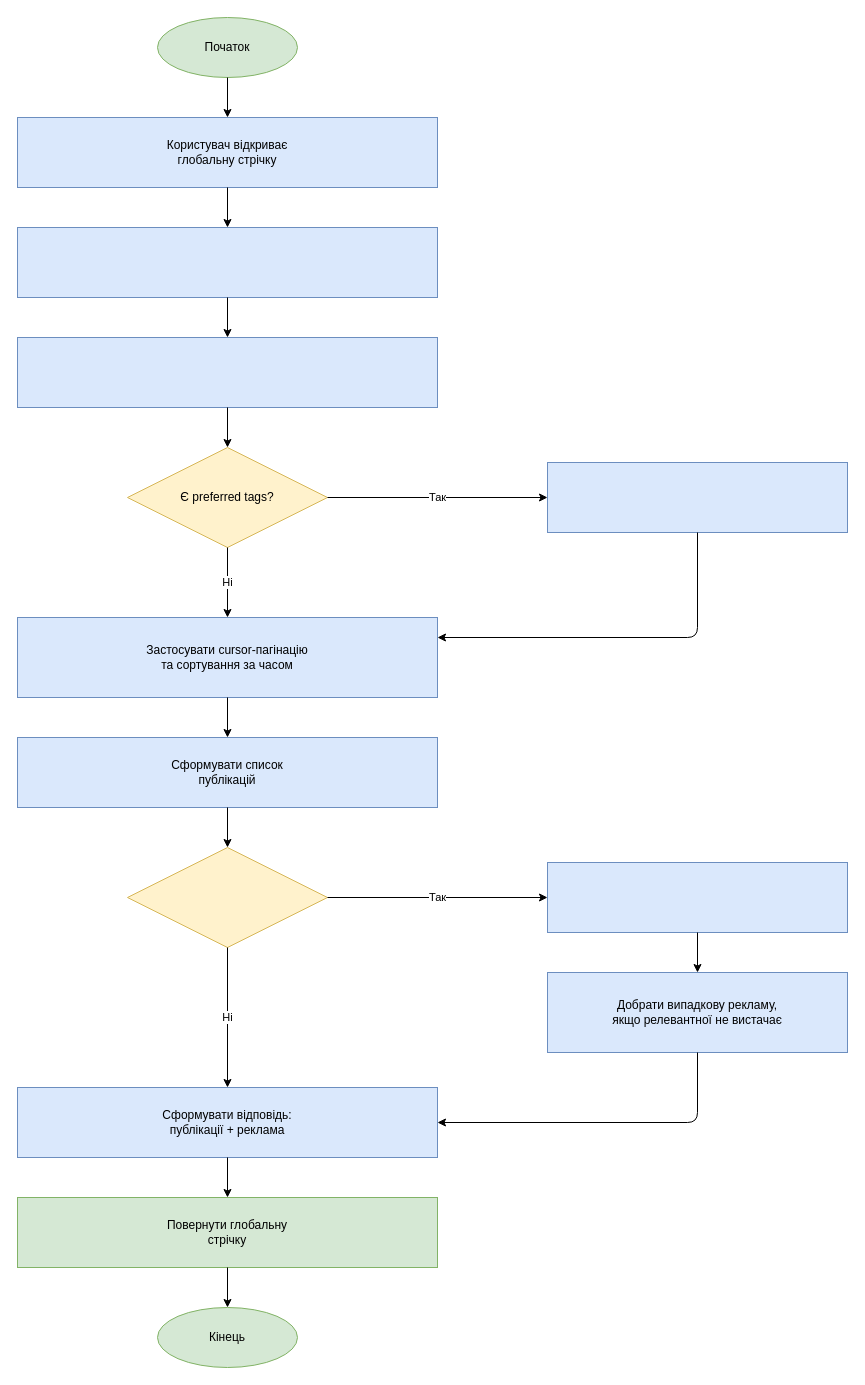
Some shapes in this 865 by 1385 pixel diagram are drawn without their labels. Each missing label, with the centre of its shape:
Відібрати релевантну активну рекламу: pixel 697 897
Завантажити preferred tags користувача: pixel 227 372
Потрібно додати рекламу?: pixel 227 897
Система читає параметри cursor і take: pixel 227 262
Фільтрувати публікації за тегами: pixel 697 497
